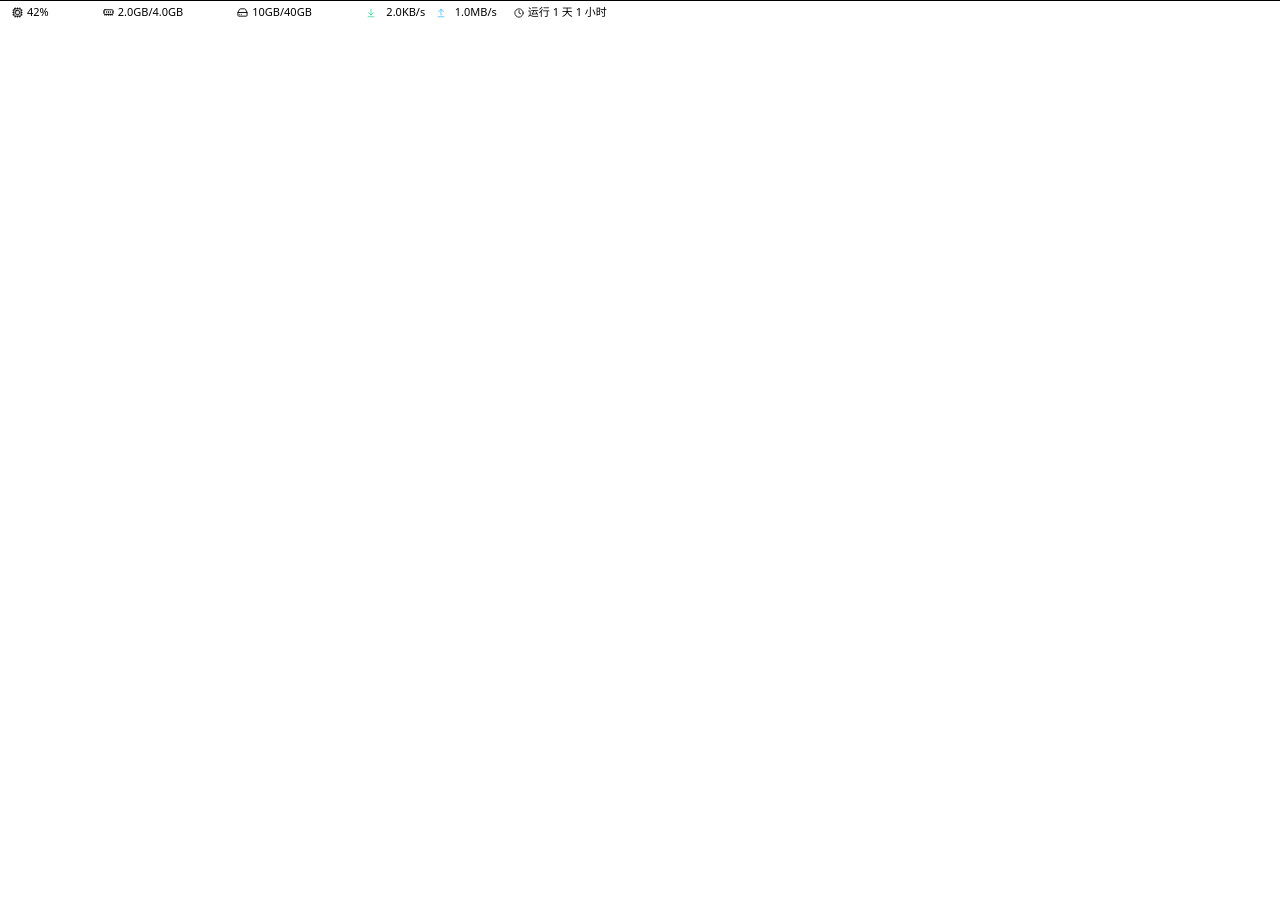
Scenario: ServerStatsBar 数据接线（固定数据） › 磁盘详情：已用 / 总量 / 使用率
The width and height of the screenshot is (1280, 900).
Hover over the button titled "根分区" at (296, 13), box left=237, top=4, right=354, bottom=21
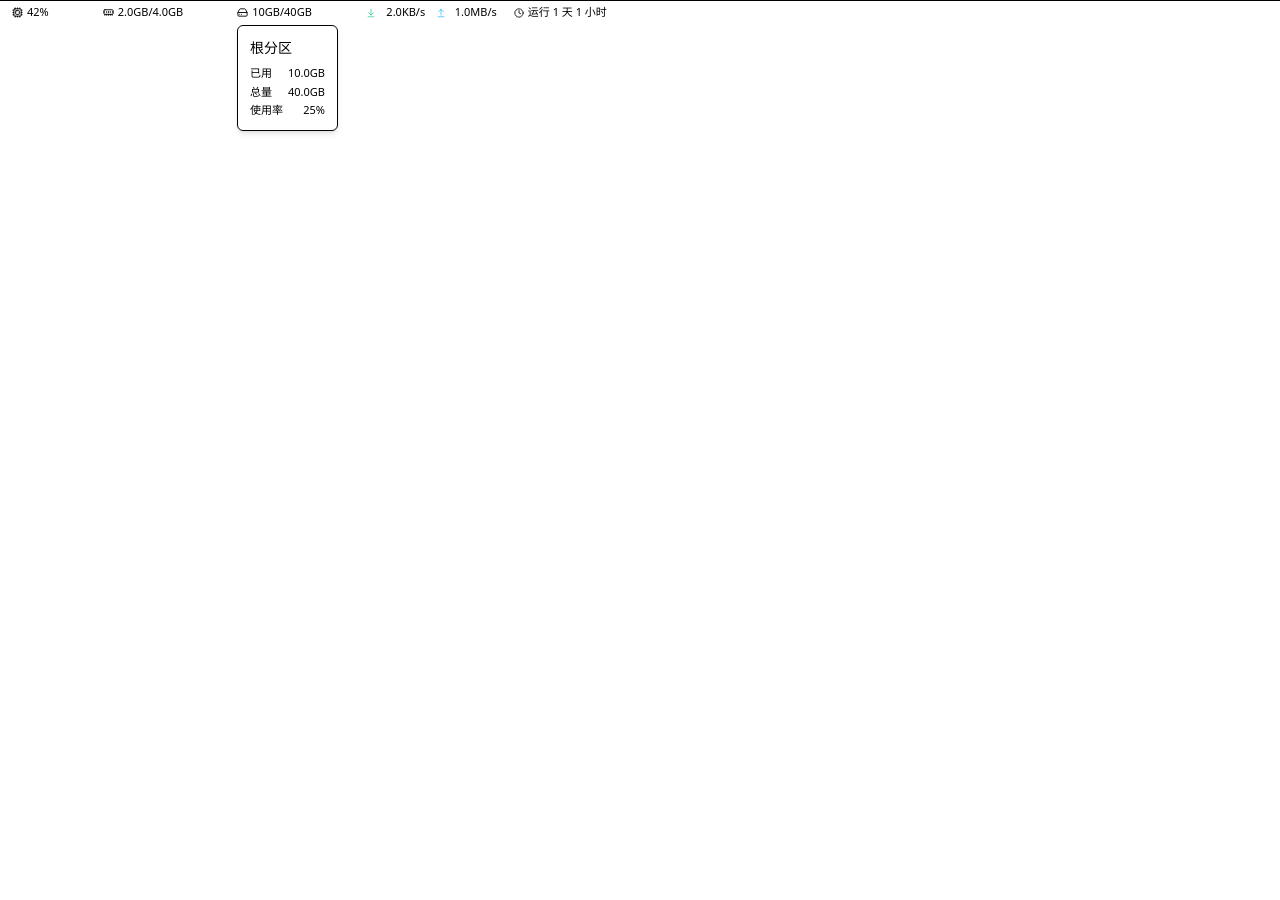
Check: the text "根分区" is shown, box left=250, top=38, right=292, bottom=57
Check: the text "10.0GB" is shown, box left=288, top=66, right=325, bottom=81
Check: the text "40.0GB" is shown, box left=288, top=85, right=325, bottom=99
